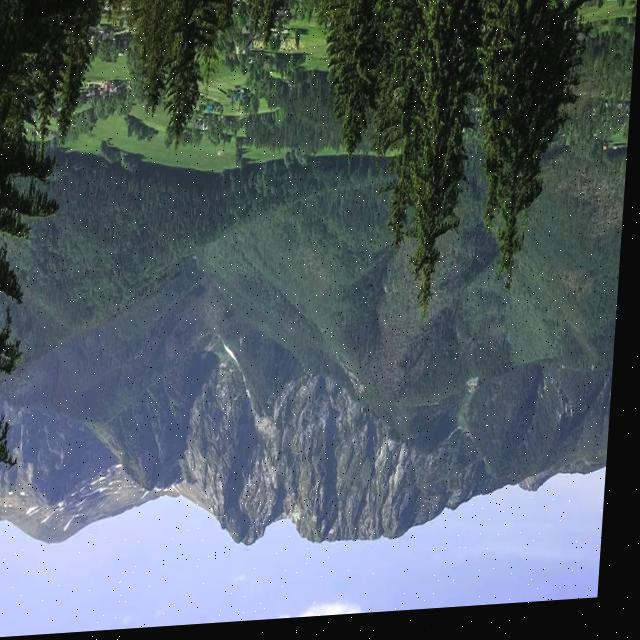Giewont: (182, 474, 308, 611)
Malolaczniak: (0, 492, 105, 596)
Maly giewont: (106, 426, 201, 550)
